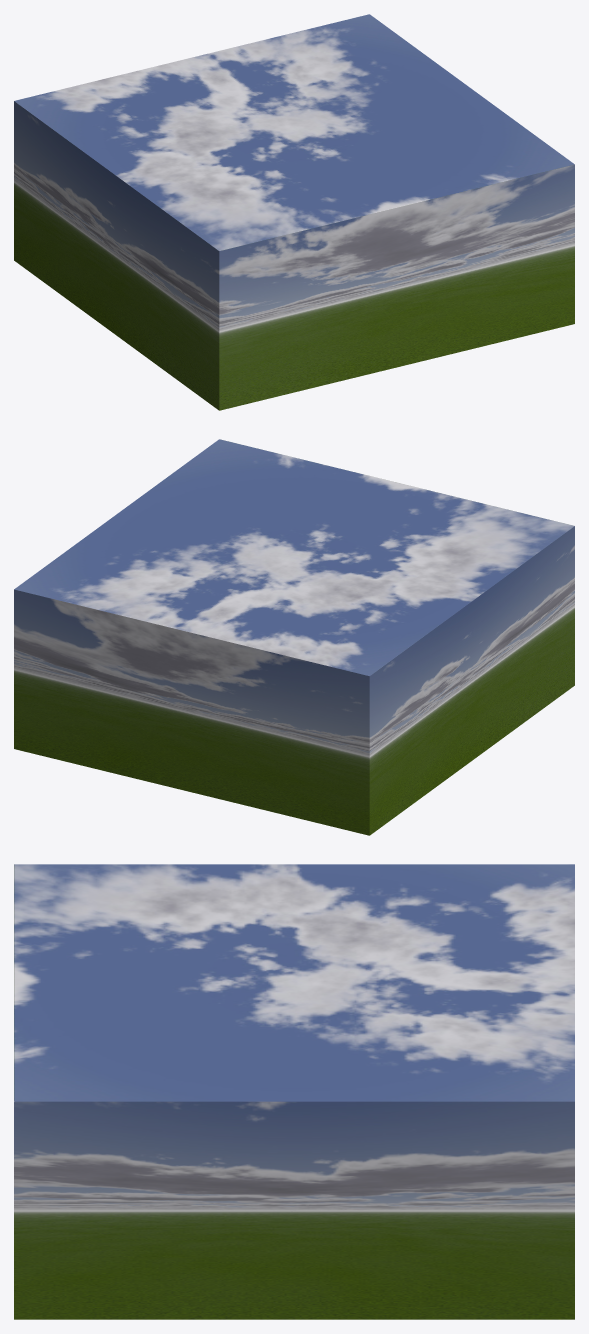
File: room_04.FBX
The picture shows the model from 3 angles, top to bottom: view 1: azimuth 30°, elevation 25°; view 2: azimuth 150°, elevation 25°; view 3: azimuth 270°, elevation 25°; orthographic projection. The views are drawn at different scales.
Visible parts, largest first — view 1: cubemap; view 2: cubemap; view 3: cubemap.
Boxes of the visible parts, left/top/right/bottom form: cubemap: left=14, top=14, right=574, bottom=410; cubemap: left=14, top=439, right=574, bottom=835; cubemap: left=14, top=864, right=574, bottom=1319.
Size of the model in its own units: 0.2917 by 0.2917 by 0.1251.
